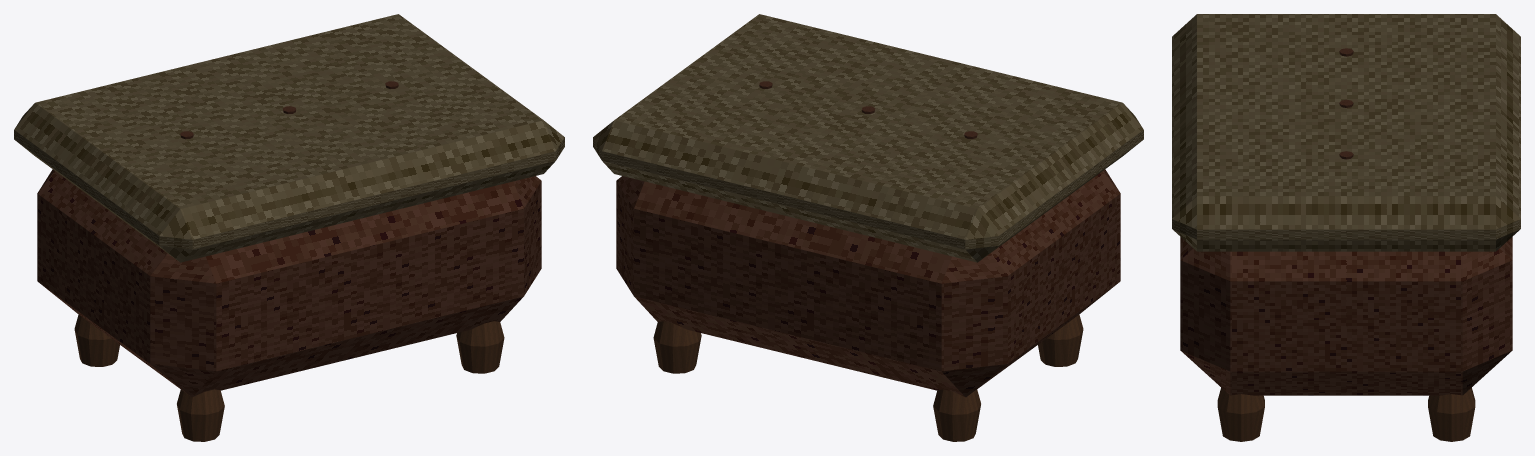
The model's file is level_lived_ottoman.glb.
3 renders of one model, left to right at view 1: azimuth 30°, elevation 25°; view 2: azimuth 150°, elevation 25°; view 3: azimuth 270°, elevation 25°, orthographic. The views are drawn at different scales.
Parts seen in each view (by area): view 1: level_lived_ottoman; view 2: level_lived_ottoman; view 3: level_lived_ottoman.
Part boxes in pixels (left/top/right/bottom): level_lived_ottoman: left=14, top=14, right=564, bottom=441; level_lived_ottoman: left=593, top=14, right=1143, bottom=441; level_lived_ottoman: left=1172, top=14, right=1520, bottom=441.
Size of the model in its own units: 0.87 by 0.52 by 0.63.
Materials: 3 (3 with a texture image).
